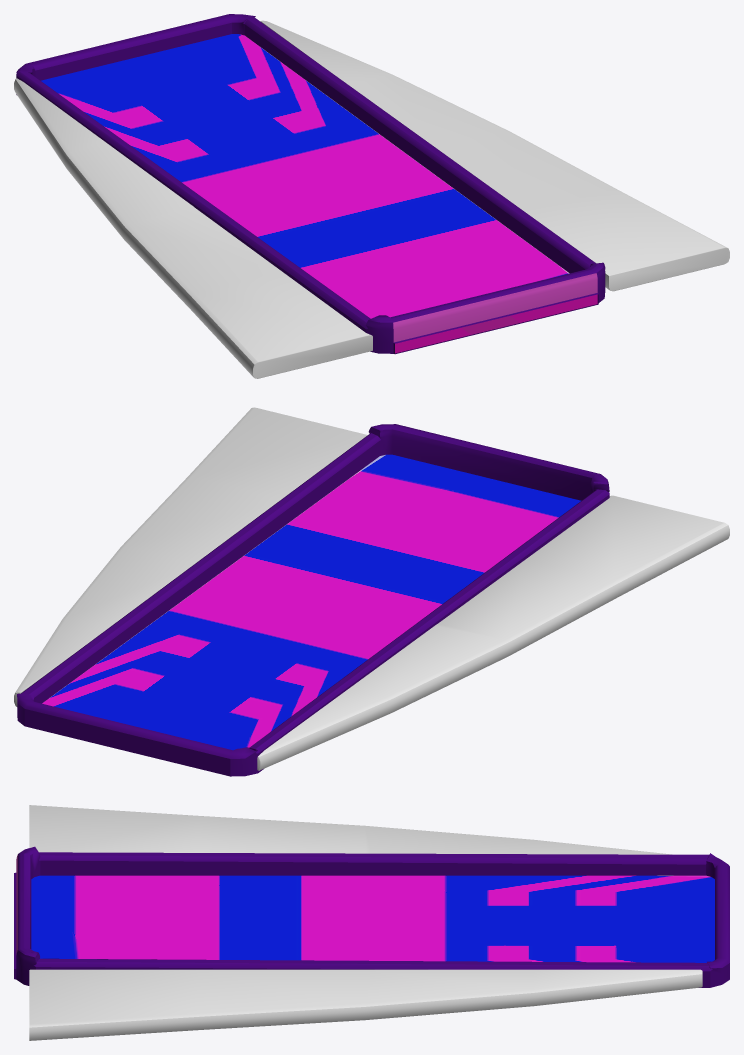
Rendered from protohovproductiontest.fbx.
The picture shows the model from 3 angles, top to bottom: view 1: azimuth 30°, elevation 25°; view 2: azimuth 150°, elevation 25°; view 3: azimuth 270°, elevation 25°; orthographic projection. The views are drawn at different scales.
Parts seen in each view (by area): view 1: Box001, wing1.5, Box003; view 2: Box001, wing1.5, Box003; view 3: Box001, Box003, wing1.5.
Part boxes in pixels (x1=…): Box001: x1=16, y1=14, x2=605, y2=354; wing1.5: x1=14, y1=78, x2=372, y2=378; Box003: x1=260, y1=20, x2=729, y2=291; Box001: x1=17, y1=424, x2=609, y2=776; wing1.5: x1=257, y1=495, x2=729, y2=770; Box003: x1=14, y1=407, x2=367, y2=706; Box001: x1=14, y1=846, x2=729, y2=987; Box003: x1=29, y1=969, x2=702, y2=1040; wing1.5: x1=29, y1=805, x2=671, y2=854.
Size of the model in its own units: 82.7 by 7.64 by 111.
